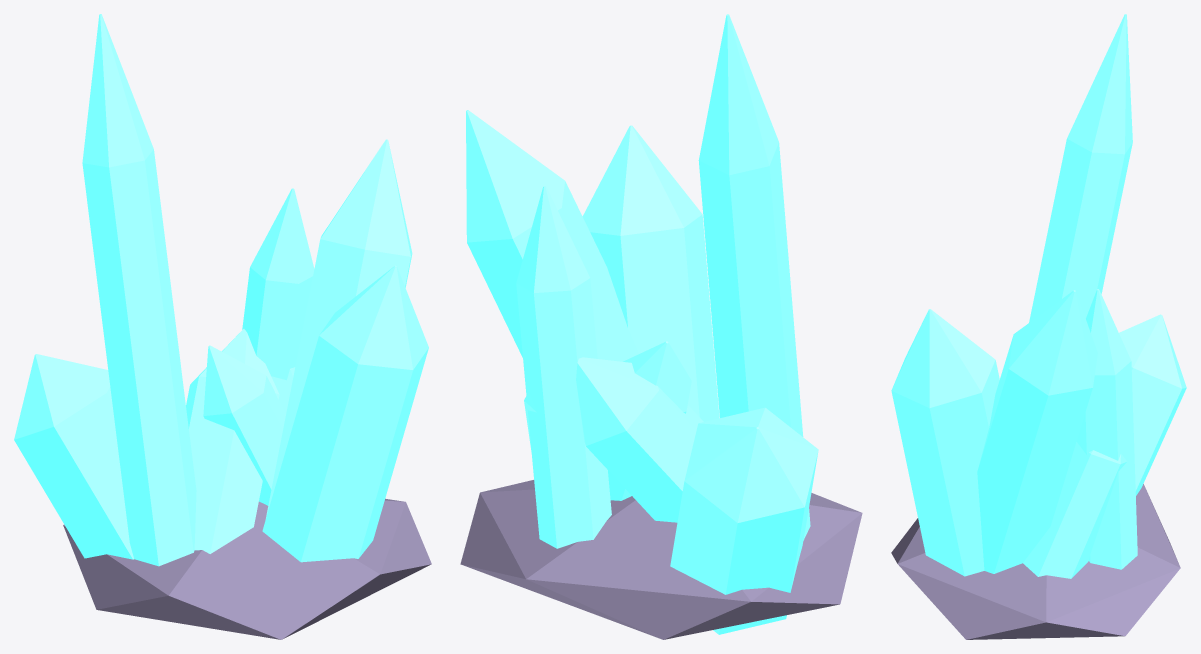
The model's file is crystals_cyan.glb.
The picture shows the model from 3 angles, left to right: view 1: azimuth 30°, elevation 25°; view 2: azimuth 150°, elevation 25°; view 3: azimuth 270°, elevation 25°; orthographic projection. The views are drawn at different scales.
Parts seen in each view (by area): view 1: crystals_cyan; view 2: crystals_cyan; view 3: crystals_cyan.
Part boxes in pixels (bbox=[...]): crystals_cyan: bbox=[14, 14, 431, 639]; crystals_cyan: bbox=[460, 14, 862, 639]; crystals_cyan: bbox=[891, 14, 1186, 639].
Bounding box in the file's own units: 6.29 × 9.65 × 4.94.
